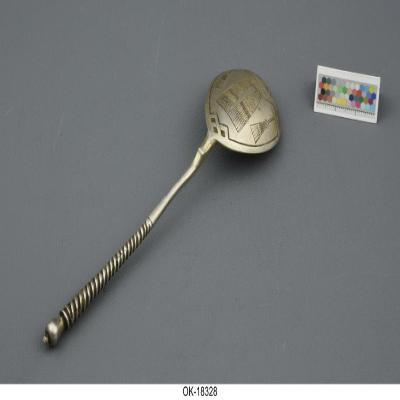dpi: (43, 69, 282, 350)
